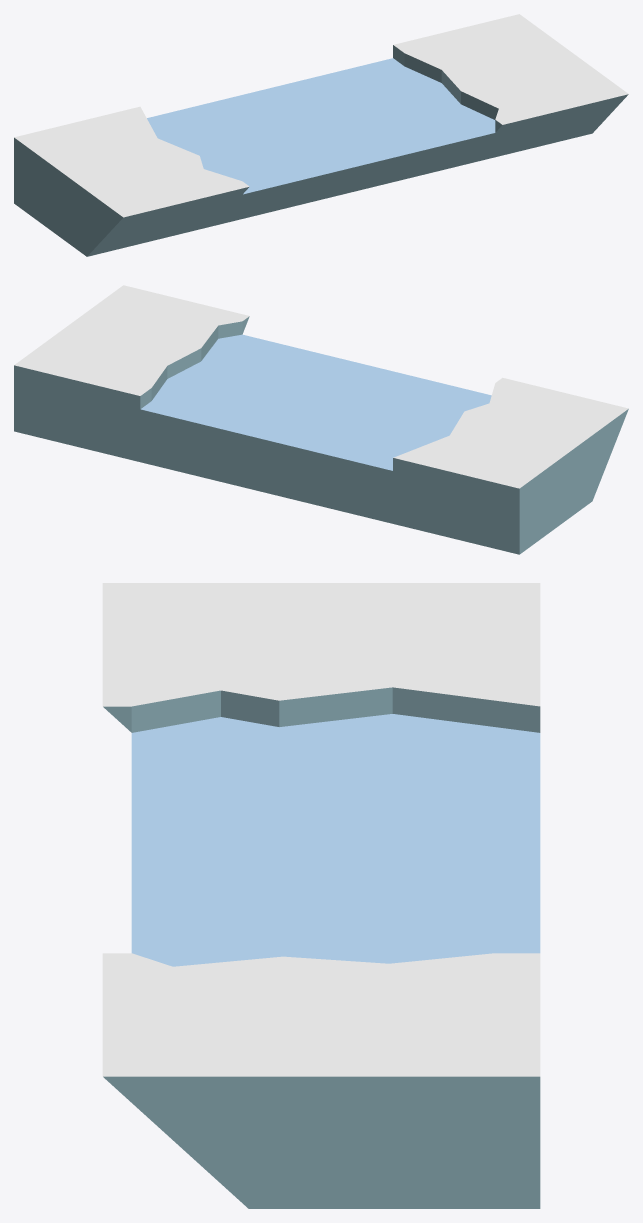
File: Terrain_Tile_Ice_Snow_Ledge_River_03.fbx
The picture shows the model from 3 angles, top to bottom: view 1: azimuth 30°, elevation 25°; view 2: azimuth 150°, elevation 25°; view 3: azimuth 270°, elevation 25°; orthographic projection. The views are drawn at different scales.
Visible parts, largest first — view 1: Terrain_Tile_Ice_Snow_Ledge_River_03; view 2: Terrain_Tile_Ice_Snow_Ledge_River_03; view 3: Terrain_Tile_Ice_Snow_Ledge_River_03.
Boxes of the visible parts, bbox=[...] form: Terrain_Tile_Ice_Snow_Ledge_River_03: bbox=[14, 14, 628, 256]; Terrain_Tile_Ice_Snow_Ledge_River_03: bbox=[14, 285, 628, 554]; Terrain_Tile_Ice_Snow_Ledge_River_03: bbox=[102, 583, 540, 1208].
Bounding box in the file's own units: 126 × 15.75 × 47.24.
